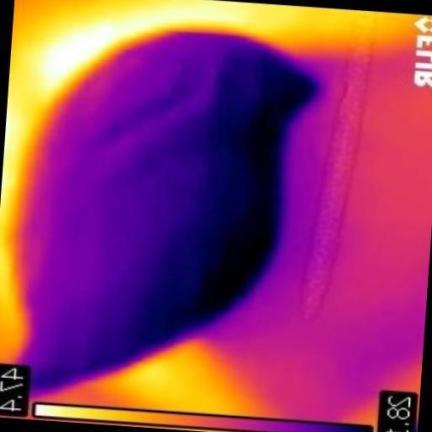mango: (19, 31, 310, 387)
